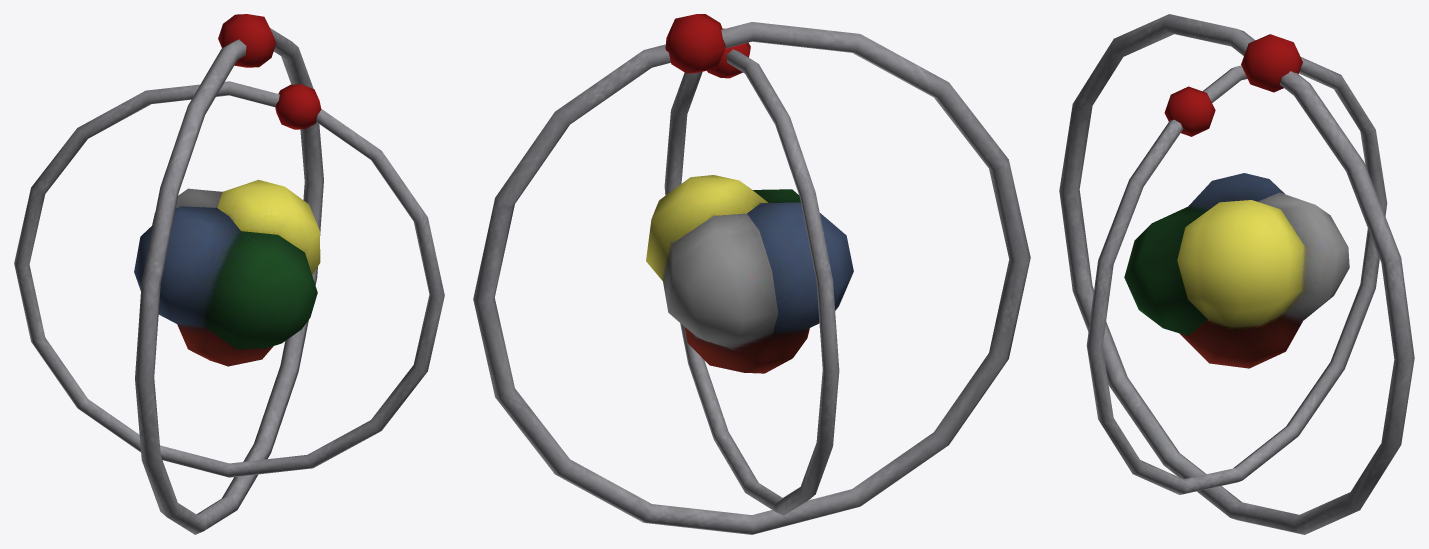
Rendered from infotron_10.obj.
3 renders of one model, left to right at view 1: azimuth 30°, elevation 25°; view 2: azimuth 150°, elevation 25°; view 3: azimuth 270°, elevation 25°, orthographic. The views are drawn at different scales.
Visible parts, largest first — view 1: unwrapped2, Object10, Object09, Object12, Object11; view 2: Object09, unwrapped2, Object10, Object12; view 3: unwrapped2, Object09, Object10, Object12, Object11.
Boxes of the visible parts, x1,y1,x2,y2 form: unwrapped2: (134, 179, 320, 366); Object10: (14, 81, 444, 477); Object09: (135, 28, 323, 534); Object12: (218, 14, 276, 67); Object11: (275, 84, 321, 129); Object09: (473, 22, 1030, 534); unwrapped2: (646, 175, 853, 373); Object10: (664, 49, 839, 515); Object12: (665, 14, 725, 73); unwrapped2: (1124, 173, 1349, 368); Object09: (1059, 14, 1414, 534); Object10: (1086, 57, 1387, 494); Object12: (1241, 34, 1302, 92); Object11: (1164, 86, 1215, 136).
Size of the model in its own units: 27.27 by 36.13 by 23.15.
Materials: 1 (1 with a texture image).
